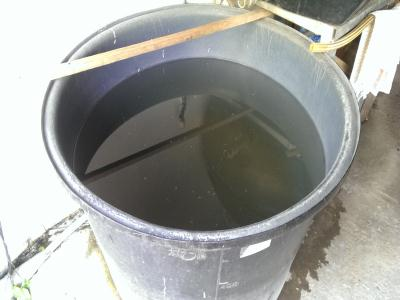bucket: (40, 2, 364, 299)
